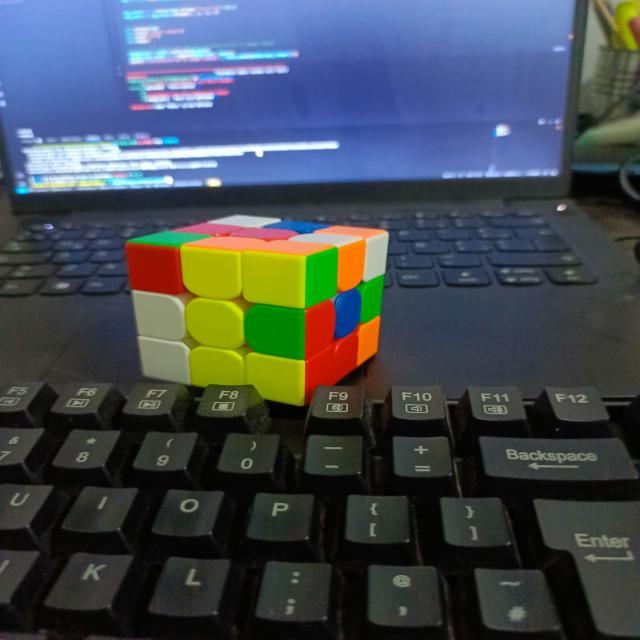rubik: (123, 214, 390, 405)
